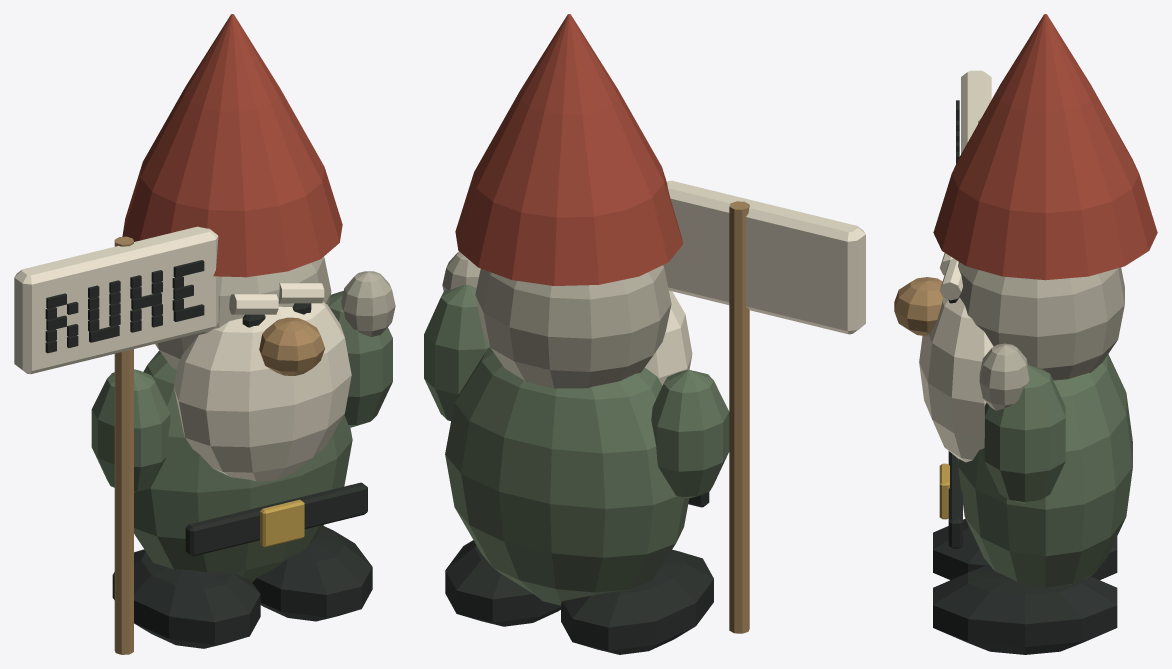
File: ordnung-gnome.glb
3 renders of one model, left to right at view 1: azimuth 30°, elevation 25°; view 2: azimuth 150°, elevation 25°; view 3: azimuth 270°, elevation 25°, orthographic. The views are drawn at different scales.
Visible parts, largest first — view 1: ordnung-gnome; view 2: ordnung-gnome; view 3: ordnung-gnome.
Part boxes in pixels (x1,y1,x2,y2): ordnung-gnome: [14, 14, 395, 654]; ordnung-gnome: [424, 14, 865, 654]; ordnung-gnome: [894, 14, 1157, 654].
Bounding box in the file's own units: 1.12 × 1.63 × 0.6458.
